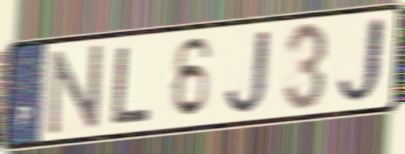3: (281, 19, 330, 114)
6: (168, 35, 213, 122)
J: (334, 13, 389, 108), (222, 26, 274, 119)
L: (108, 43, 154, 127)
N: (47, 41, 104, 139)
